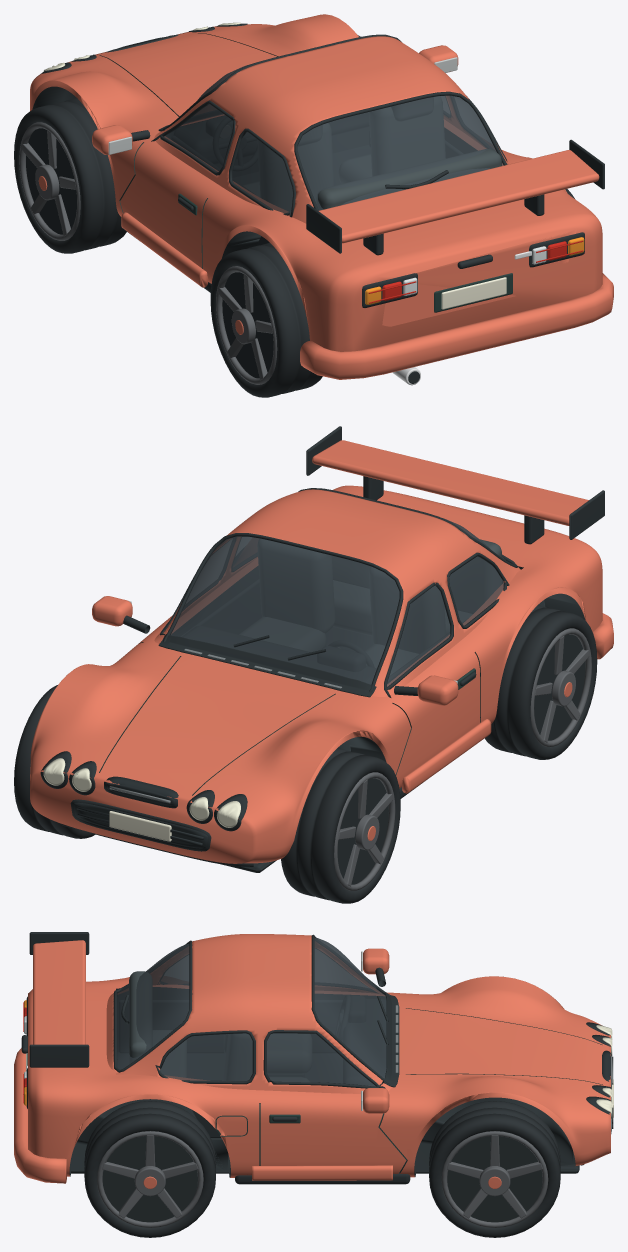
Rendered from hibari.fbx.
3 views of the same model, one above another, from view 1: azimuth 30°, elevation 25°; view 2: azimuth 150°, elevation 25°; view 3: azimuth 270°, elevation 25° (orthographic). The views are drawn at different scales.
Parts seen in each view (by area): view 1: Body, Wheel_FL_Mesh, Wheel_RL_Mesh; view 2: Body, Wheel_FL_Mesh, Wheel_RL_Mesh, Wheel_FR_Mesh; view 3: Body, Wheel_RR_Mesh, Wheel_FR_Mesh.
Part boxes in pixels (x1=…): Body: x1=30, y1=14, x2=613, y2=385; Wheel_FL_Mesh: x1=14, y1=98, x2=126, y2=253; Wheel_RL_Mesh: x1=210, y1=243, x2=322, y2=397; Body: x1=30, y1=426, x2=613, y2=872; Wheel_FL_Mesh: x1=281, y1=748, x2=400, y2=903; Wheel_RL_Mesh: x1=485, y1=605, x2=597, y2=759; Wheel_FR_Mesh: x1=14, y1=685, x2=95, y2=838; Body: x1=14, y1=932, x2=613, y2=1184; Wheel_RR_Mesh: x1=84, y1=1101, x2=215, y2=1237; Wheel_FR_Mesh: x1=429, y1=1101, x2=560, y2=1237.
Size of the model in its own units: 230 by 148 by 383.
